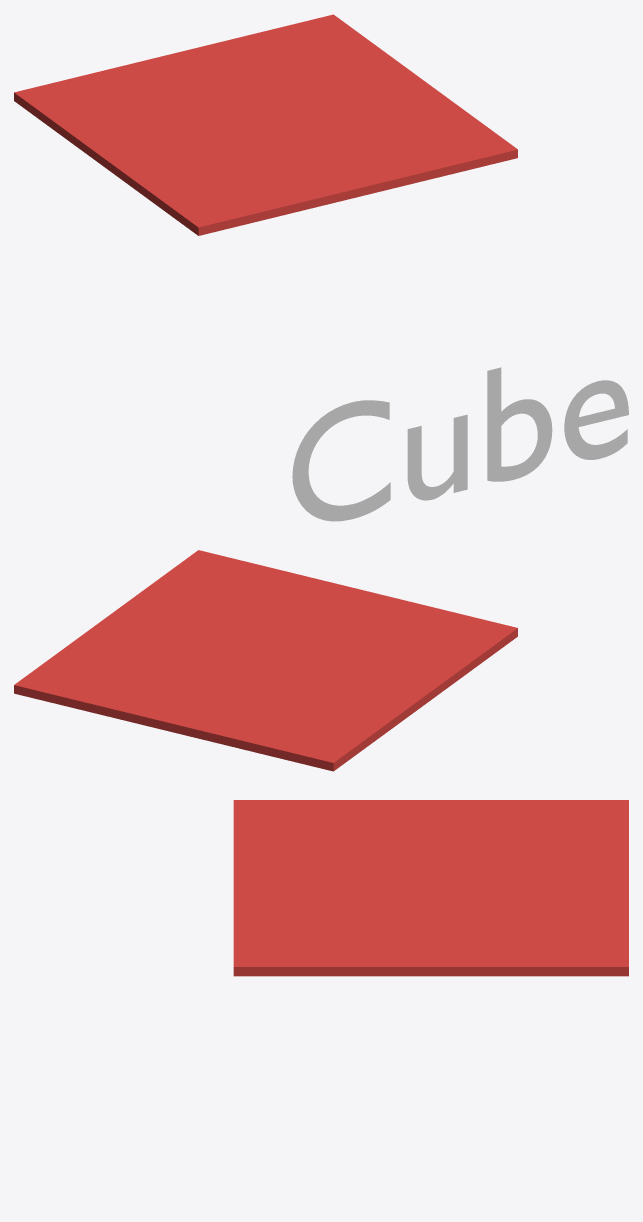
3 renders of one model, top to bottom at view 1: azimuth 30°, elevation 25°; view 2: azimuth 150°, elevation 25°; view 3: azimuth 270°, elevation 25°, orthographic. The views are drawn at different scales.
Visible parts, largest first — view 1: Cube, Text; view 2: Cube; view 3: Cube.
Part boxes in pixels (x1,y1,x2,y2): Cube: (14,14,517,235); Text: (292,367,628,521); Cube: (14,550,517,771); Cube: (233,800,628,976).
Size of the model in its own units: 2.11 by 1.37 by 3.11.
